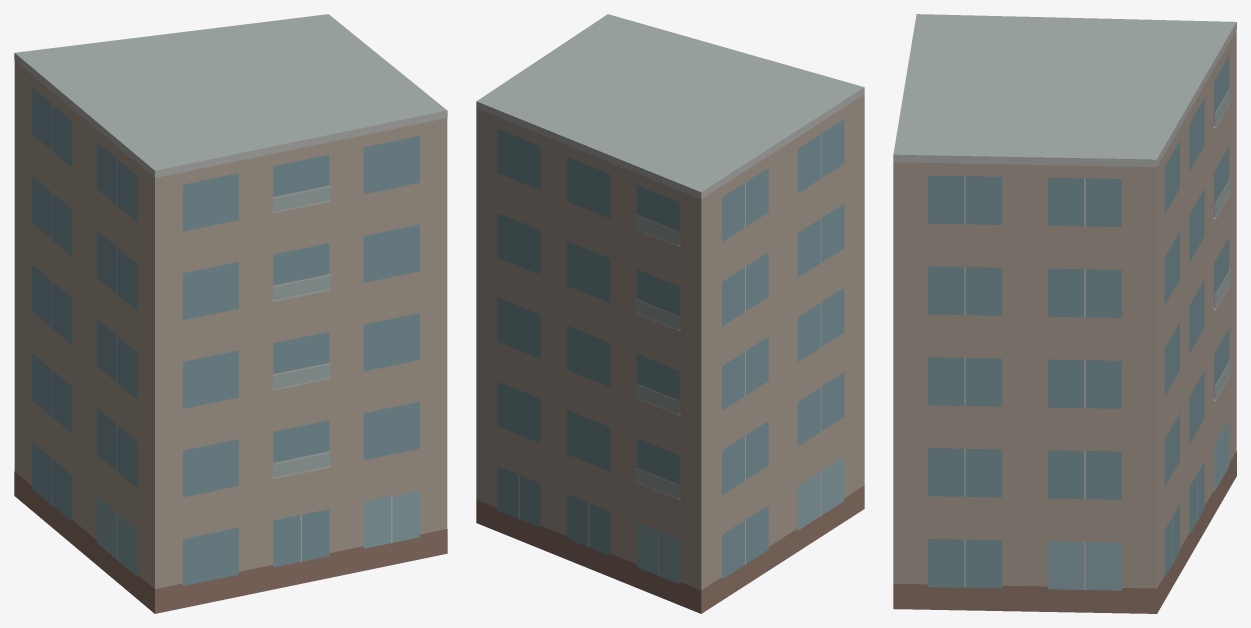
File: survey-upis-32660398.glb
3 renders of one model, left to right at view 1: azimuth 30°, elevation 25°; view 2: azimuth 150°, elevation 25°; view 3: azimuth 270°, elevation 25°, orthographic. The views are drawn at different scales.
Visible parts, largest first — view 1: survey-upis-32660398.tmp; view 2: survey-upis-32660398.tmp; view 3: survey-upis-32660398.tmp.
Boxes of the visible parts, x1,y1,x2,y2 form: survey-upis-32660398.tmp: (14,14,447,613); survey-upis-32660398.tmp: (476,14,864,613); survey-upis-32660398.tmp: (893,14,1236,613).
Size of the model in its own units: 10.04 by 14.6 by 10.01.
